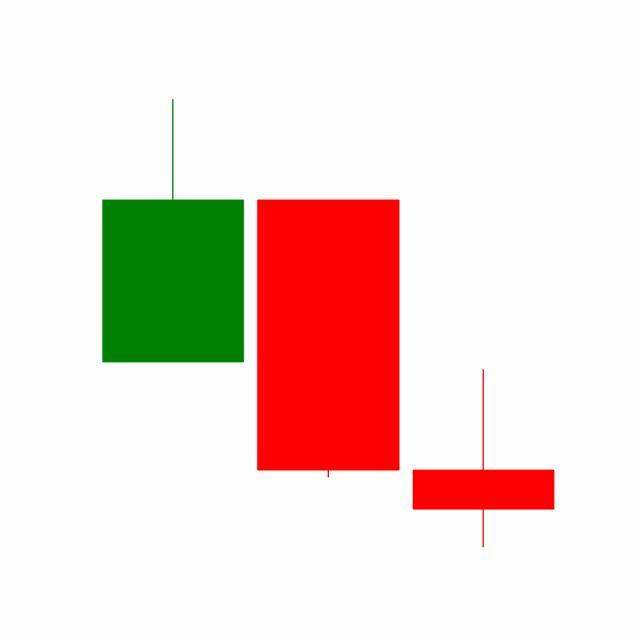Gravestone Doji: (406, 368, 562, 550)
